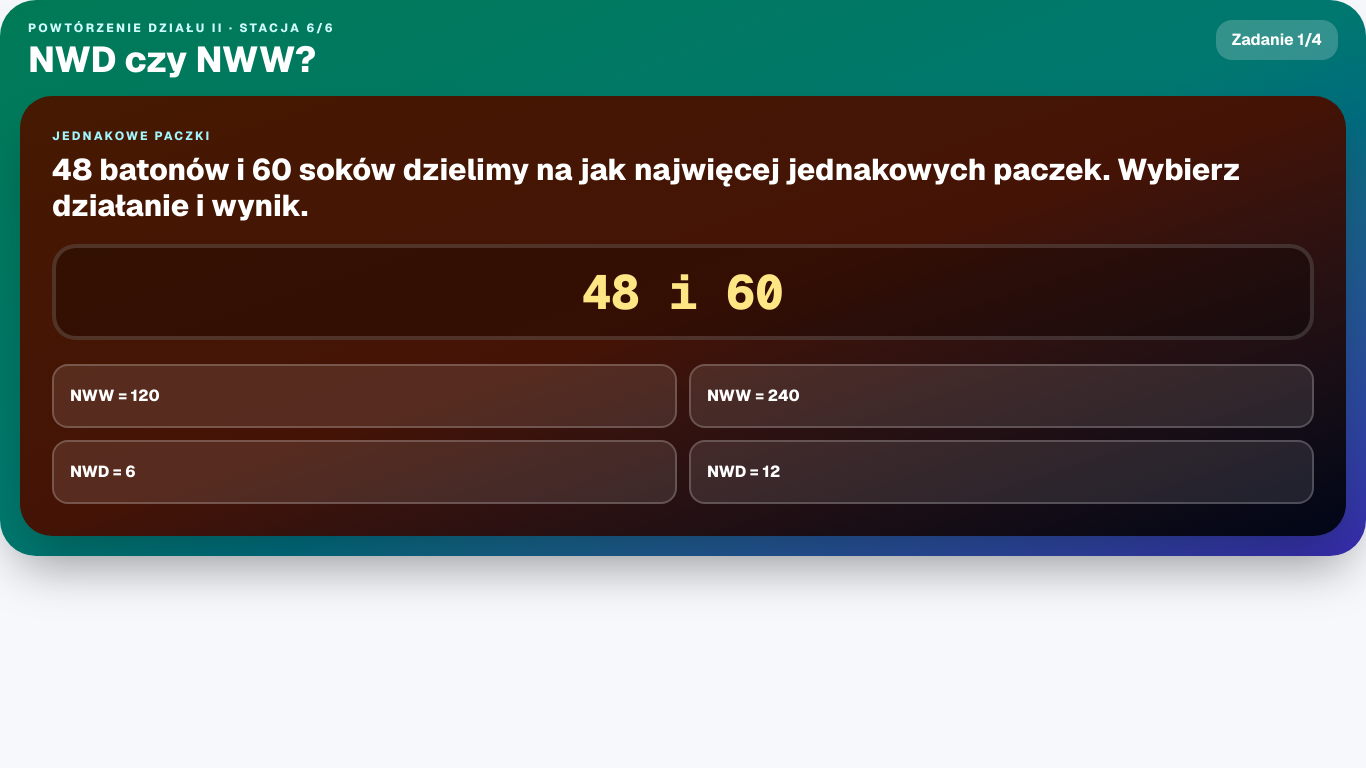
SectionTwoReviewLessonModel › w ostatniej stacji rozpoznaje NWD w zadaniu o jednakowych paczkach
Click the button "NWD = 12" at (744, 472), box [689,440,1314,504]
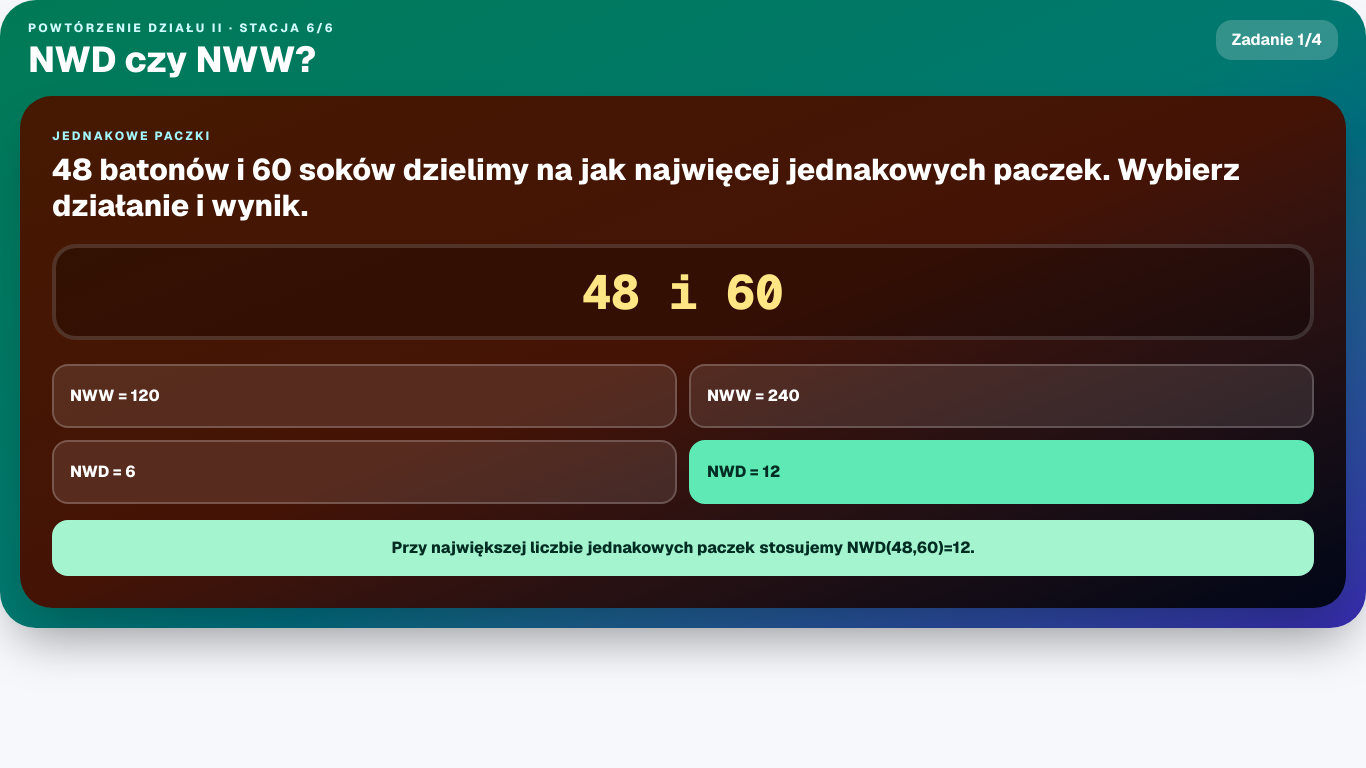
Check: the message shows "NWD(48,60)=12", box [392,537,974,558]
